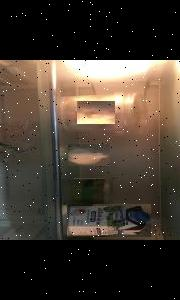Ajo: (67, 144, 109, 166), (76, 101, 114, 124)
Guacamole: (73, 178, 112, 205)
Nata: (66, 204, 150, 237)
